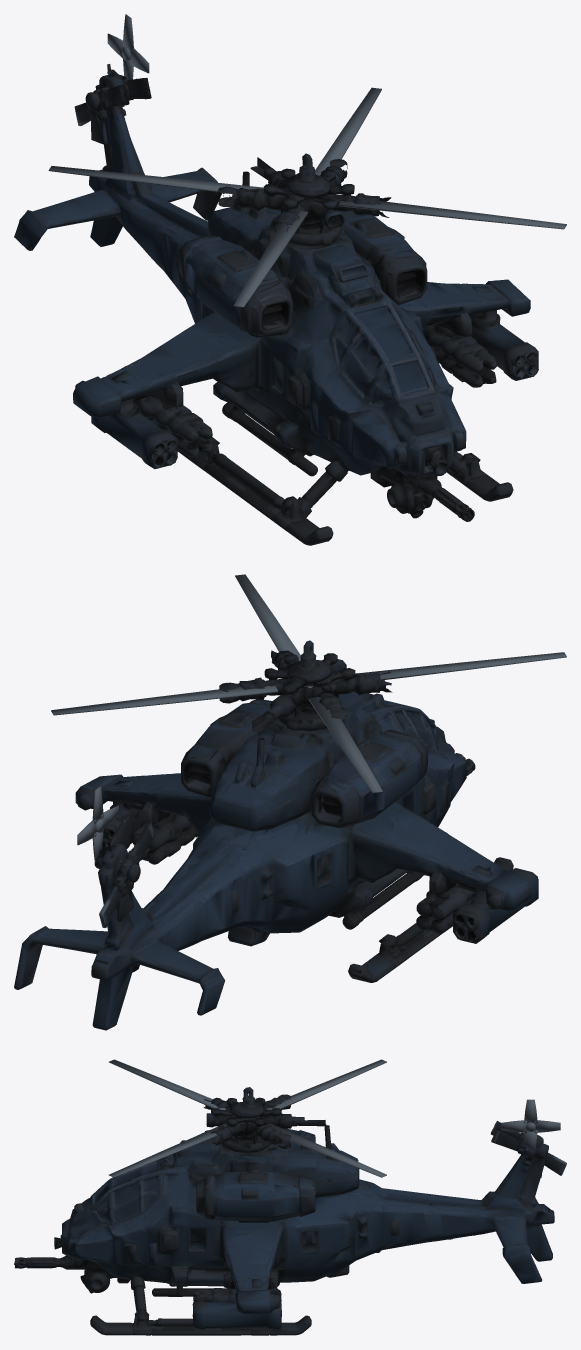
The model's file is blue-h8-lod0.fbx.
3 views of the same model, one above another, from view 1: azimuth 30°, elevation 25°; view 2: azimuth 150°, elevation 25°; view 3: azimuth 270°, elevation 25° (orthographic). The views are drawn at different scales.
Visible parts, largest first — view 1: Body, PortWeaponPod, RotorHub, RotorBlades, StarboardWeaponPod, TailRotorBlades; view 2: Body, RotorBlades, RotorHub, PortWeaponPod, StarboardWeaponPod, TailRotorBlades; view 3: Body, StarboardWeaponPod, RotorHub, RotorBlades, TailRotorBlades, ChinGun.
Part boxes in pixels (x1,y1,x2,y2): Body: [14, 64, 513, 545]; PortWeaponPod: [73, 359, 211, 469]; RotorHub: [217, 153, 391, 239]; RotorBlades: [48, 87, 566, 307]; StarboardWeaponPod: [430, 279, 538, 383]; TailRotorBlades: [107, 14, 149, 79]; Body: [14, 692, 513, 1030]; RotorBlades: [51, 574, 566, 793]; RotorHub: [219, 640, 392, 732]; PortWeaponPod: [421, 824, 538, 943]; StarboardWeaponPod: [75, 774, 166, 858]; TailRotorBlades: [77, 786, 118, 862]; Body: [15, 1121, 566, 1335]; StarboardWeaponPod: [192, 1250, 281, 1329]; RotorHub: [203, 1087, 326, 1148]; RotorBlades: [109, 1059, 386, 1177]; TailRotorBlades: [501, 1099, 560, 1152]; ChinGun: [14, 1258, 60, 1268].
Bounding box in the file's own units: 1276 × 818 × 1920.
